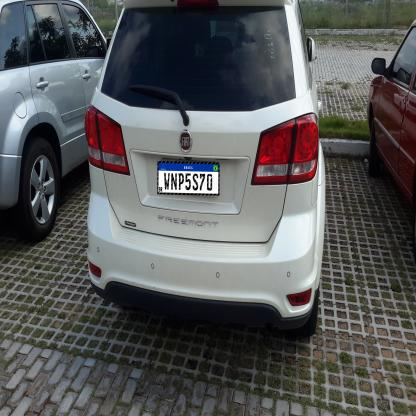PlacaM: (157, 161, 220, 196)
